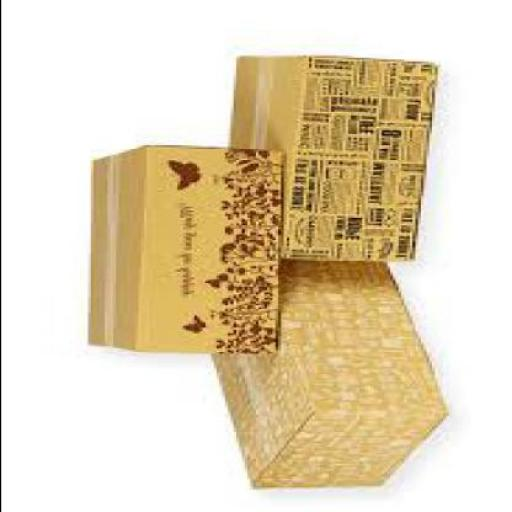cardboard: (207, 259, 445, 486), (224, 54, 436, 261), (81, 143, 280, 354)
